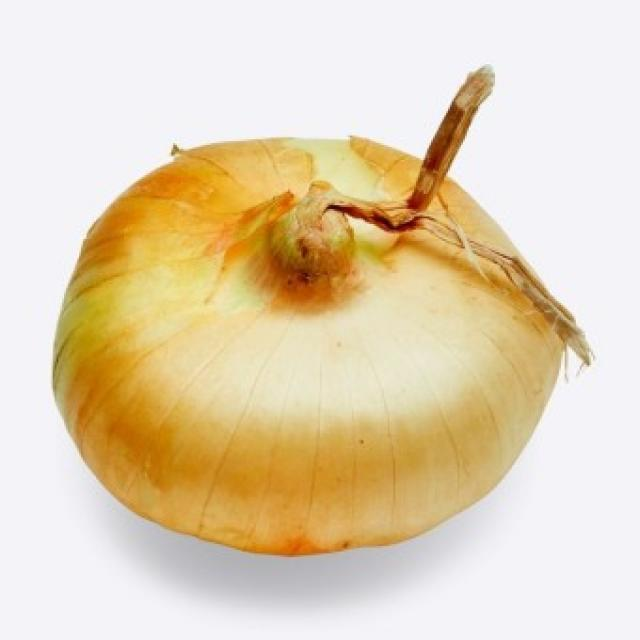onion: (50, 69, 594, 560)
